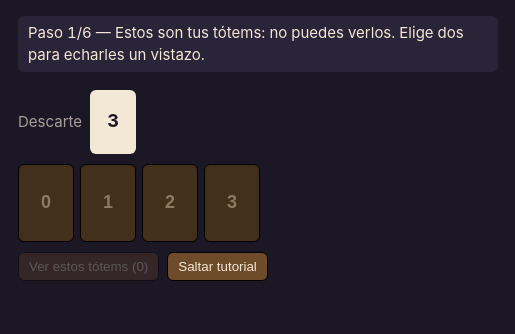
WP-14 · pantalla de tutorial › avanza del paso 1 al 2 haciendo el vislumbre inicial
The image size is (515, 334).
Check: the text "Paso 1/6" is shown, box [18, 16, 498, 72]
Step 1. Click the button "0" → click(46, 202), box [18, 164, 74, 242]
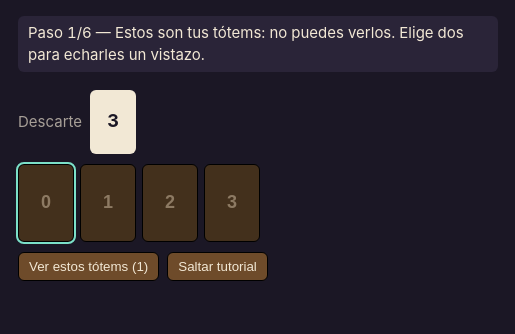
Step 2. Click the button "1" → click(108, 202), box [80, 164, 136, 242]
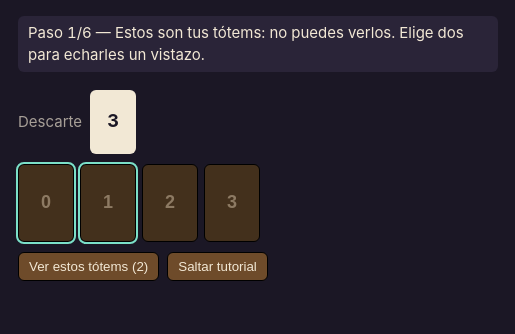
Step 3. Click the button "Ver estos tótems (2)" → click(89, 266), box [18, 252, 159, 280]
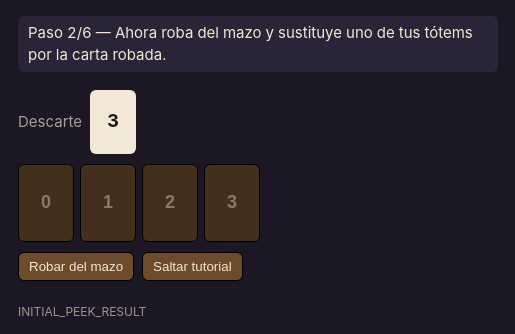
Check: the text "Paso 2/6" is shown, box [18, 16, 498, 72]
